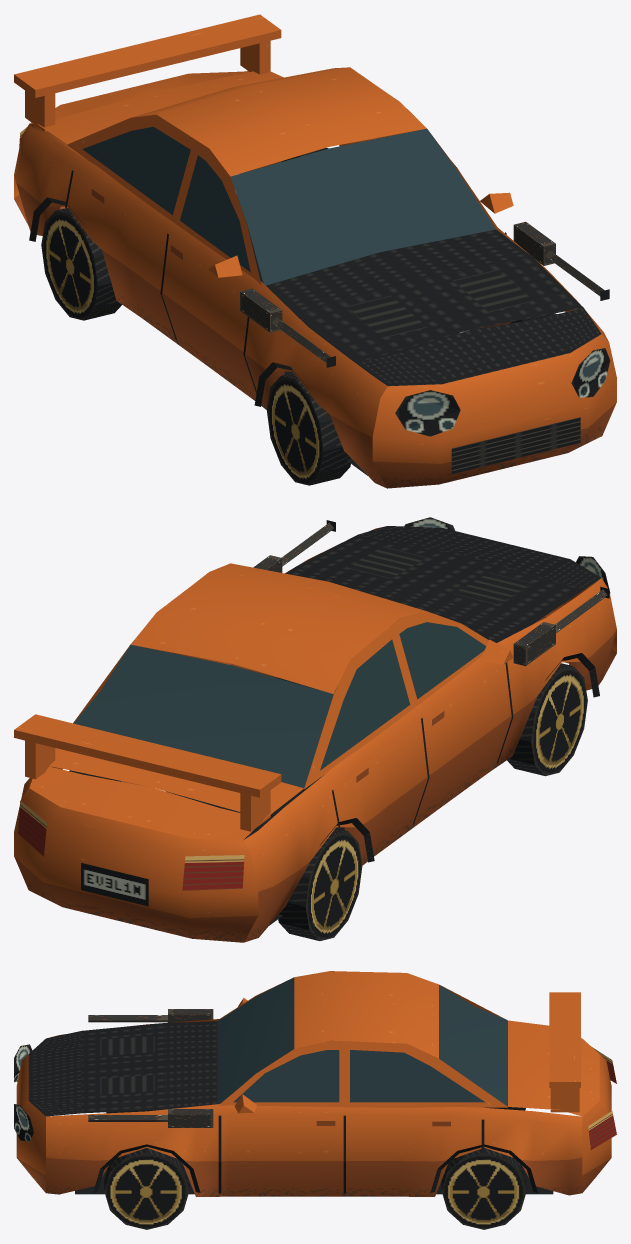
Rendered from evelyn.obj.
The picture shows the model from 3 angles, top to bottom: view 1: azimuth 30°, elevation 25°; view 2: azimuth 150°, elevation 25°; view 3: azimuth 270°, elevation 25°; orthographic projection. The views are drawn at different scales.
Parts seen in each view (by area): view 1: body_left, hood, windscreens, front_bumper, roof, cabin_left, wing, lamps_grilles, fl_wheel, trunk, rl_wheel, hood_vents (+5 smaller); view 2: body_left, windscreens, roof, rear_bumper, hood, cabin_left, trunk, wing, rl_wheel, lamps_grilles, fl_wheel, hood_vents (+4 smaller); view 3: body_right, hood, cabin_right, windscreens, roof, fr_wheel, rr_wheel, trunk, wing, front_bumper, rear_bumper, hood_vents (+6 smaller).
Part boxes in pixels (x1,y1,x2,y2): body_left: [14, 124, 387, 488]; hood: [266, 229, 601, 386]; windscreens: [230, 128, 495, 285]; front_bumper: [372, 334, 616, 488]; roof: [132, 67, 426, 176]; cabin_left: [67, 114, 261, 285]; wing: [14, 14, 281, 131]; lamps_grilles: [19, 127, 610, 473]; fl_wheel: [266, 372, 350, 485]; trunk: [30, 71, 283, 144]; rl_wheel: [41, 207, 121, 320]; hood_vents: [347, 269, 533, 337]; body_left: [243, 578, 616, 942]; windscreens: [73, 645, 333, 788]; roof: [131, 563, 426, 693]; rear_bumper: [14, 788, 258, 942]; hood: [286, 526, 600, 642]; cabin_left: [304, 611, 488, 788]; trunk: [29, 748, 303, 840]; wing: [14, 714, 281, 831]; rl_wheel: [278, 828, 362, 940]; lamps_grilles: [18, 517, 610, 906]; fl_wheel: [507, 663, 587, 776]; hood_vents: [347, 546, 533, 604]; body_right: [46, 1104, 582, 1196]; hood: [28, 1021, 217, 1116]; cabin_right: [218, 1040, 507, 1107]; windscreens: [217, 977, 507, 1106]; roof: [294, 971, 438, 1058]; fr_wheel: [104, 1148, 189, 1229]; rr_wheel: [441, 1148, 526, 1229]; trunk: [508, 1020, 599, 1116]; wing: [549, 992, 580, 1112]; front_bumper: [16, 1054, 45, 1192]; rear_bumper: [582, 1054, 611, 1192]; hood_vents: [100, 1036, 154, 1094].
Bounding box in the file's own units: 1.92 × 1.5 × 4.54.
Materials: 1 (1 with a texture image).
